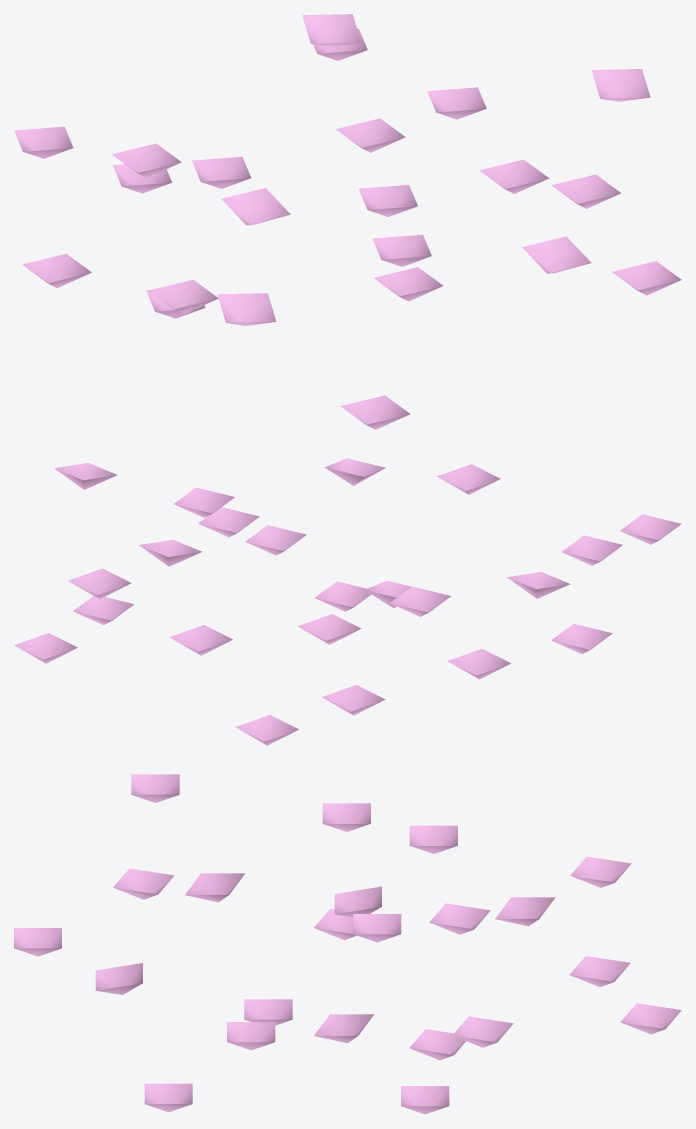
The picture shows the model from 3 angles, top to bottom: view 1: azimuth 30°, elevation 25°; view 2: azimuth 150°, elevation 25°; view 3: azimuth 270°, elevation 25°; orthographic projection. The views are drawn at different scales.
Visible parts, largest first — view 1: Object12; view 2: Object12; view 3: Object12.
Part boxes in pixels (x1,y1,x2,y2): Object12: (14,14,681,429); Object12: (14,458,681,745); Object12: (14,774,681,1114).
Bounding box in the file's own units: 154 × 38.94 × 155.
